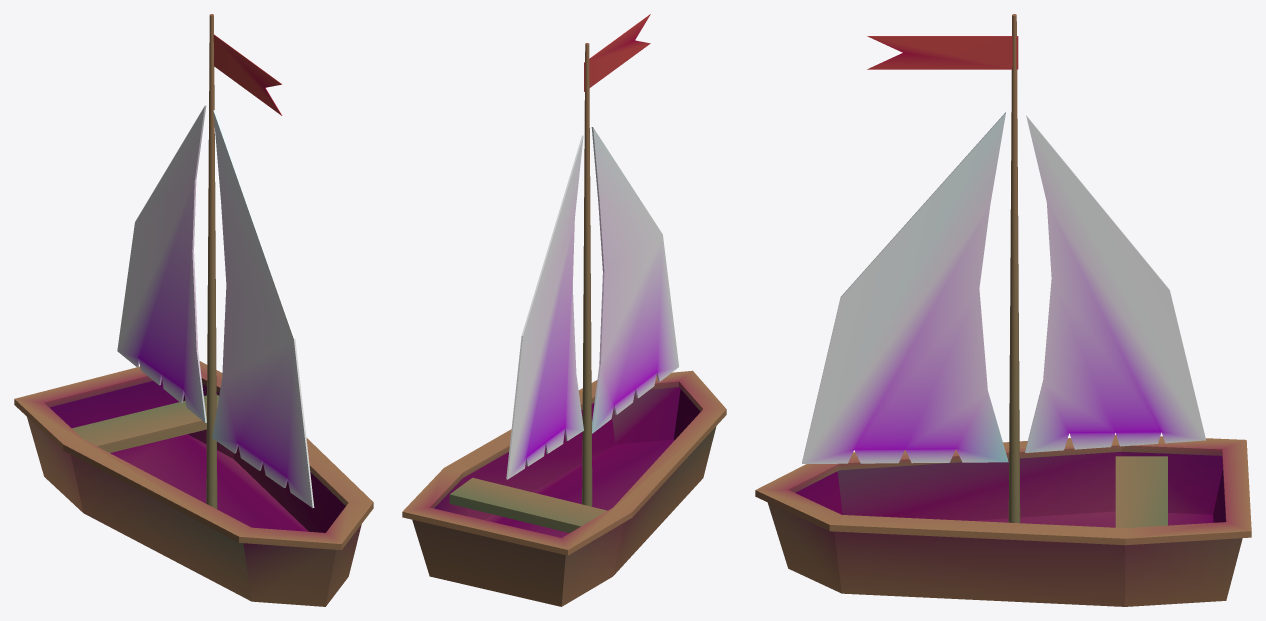
The picture shows the model from 3 angles, left to right: view 1: azimuth 30°, elevation 25°; view 2: azimuth 150°, elevation 25°; view 3: azimuth 270°, elevation 25°; orthographic projection. The views are drawn at different scales.
Parts seen in each view (by area): view 1: hull, bow_cloth, stern_cloth, mast, crossbar, red_pennant; view 2: hull, bow_cloth, stern_cloth, crossbar, mast, red_pennant; view 3: hull, bow_cloth, stern_cloth, red_pennant, mast, crossbar.
Part boxes in pixels (<box>): hull: <box>14,361,373,606</box>; bow_cloth: <box>212,110,314,507</box>; stern_cloth: <box>117,105,206,422</box>; mast: <box>206,14,217,509</box>; crossbar: <box>72,394,218,452</box>; red_pennant: <box>213,34,282,115</box>; hull: <box>402,370,726,606</box>; bow_cloth: <box>591,127,679,433</box>; stern_cloth: <box>506,135,583,479</box>; crossbar: <box>449,477,607,532</box>; mast: <box>582,43,592,506</box>; red_pennant: <box>584,14,650,91</box>; hull: <box>755,435,1251,606</box>; bow_cloth: <box>802,112,1008,463</box>; stern_cloth: <box>1025,115,1205,452</box>; red_pennant: <box>867,36,1018,69</box>; mast: <box>1008,14,1020,523</box>; crossbar: <box>1115,456,1167,528</box>.
Size of the model in its own units: 2.03 by 5 by 4.09.
